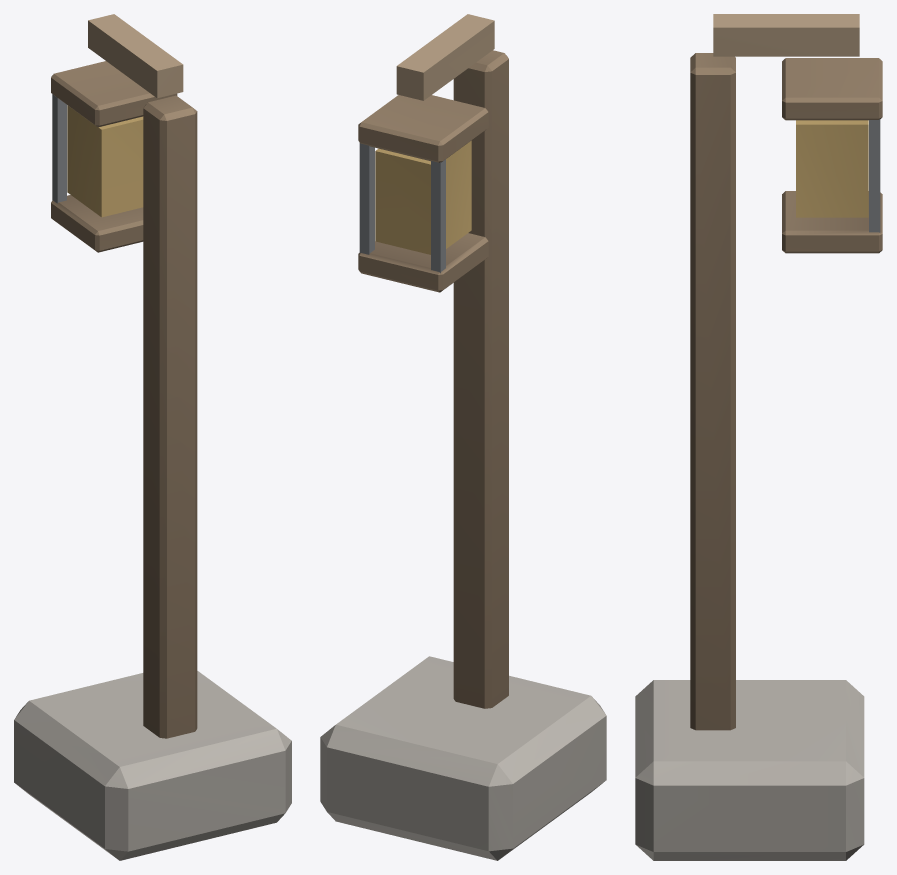
The model's file is work_lamp.glb.
3 renders of one model, left to right at view 1: azimuth 30°, elevation 25°; view 2: azimuth 150°, elevation 25°; view 3: azimuth 270°, elevation 25°, orthographic. The views are drawn at different scales.
Visible parts, largest first — view 1: geometry_work_lamp; view 2: geometry_work_lamp; view 3: geometry_work_lamp.
Boxes of the visible parts, x1,y1,x2,y2 form: geometry_work_lamp: [14, 14, 291, 860]; geometry_work_lamp: [320, 14, 606, 860]; geometry_work_lamp: [635, 14, 882, 860].
Bounding box in the file's own units: 0.5 × 1.92 × 0.54.
